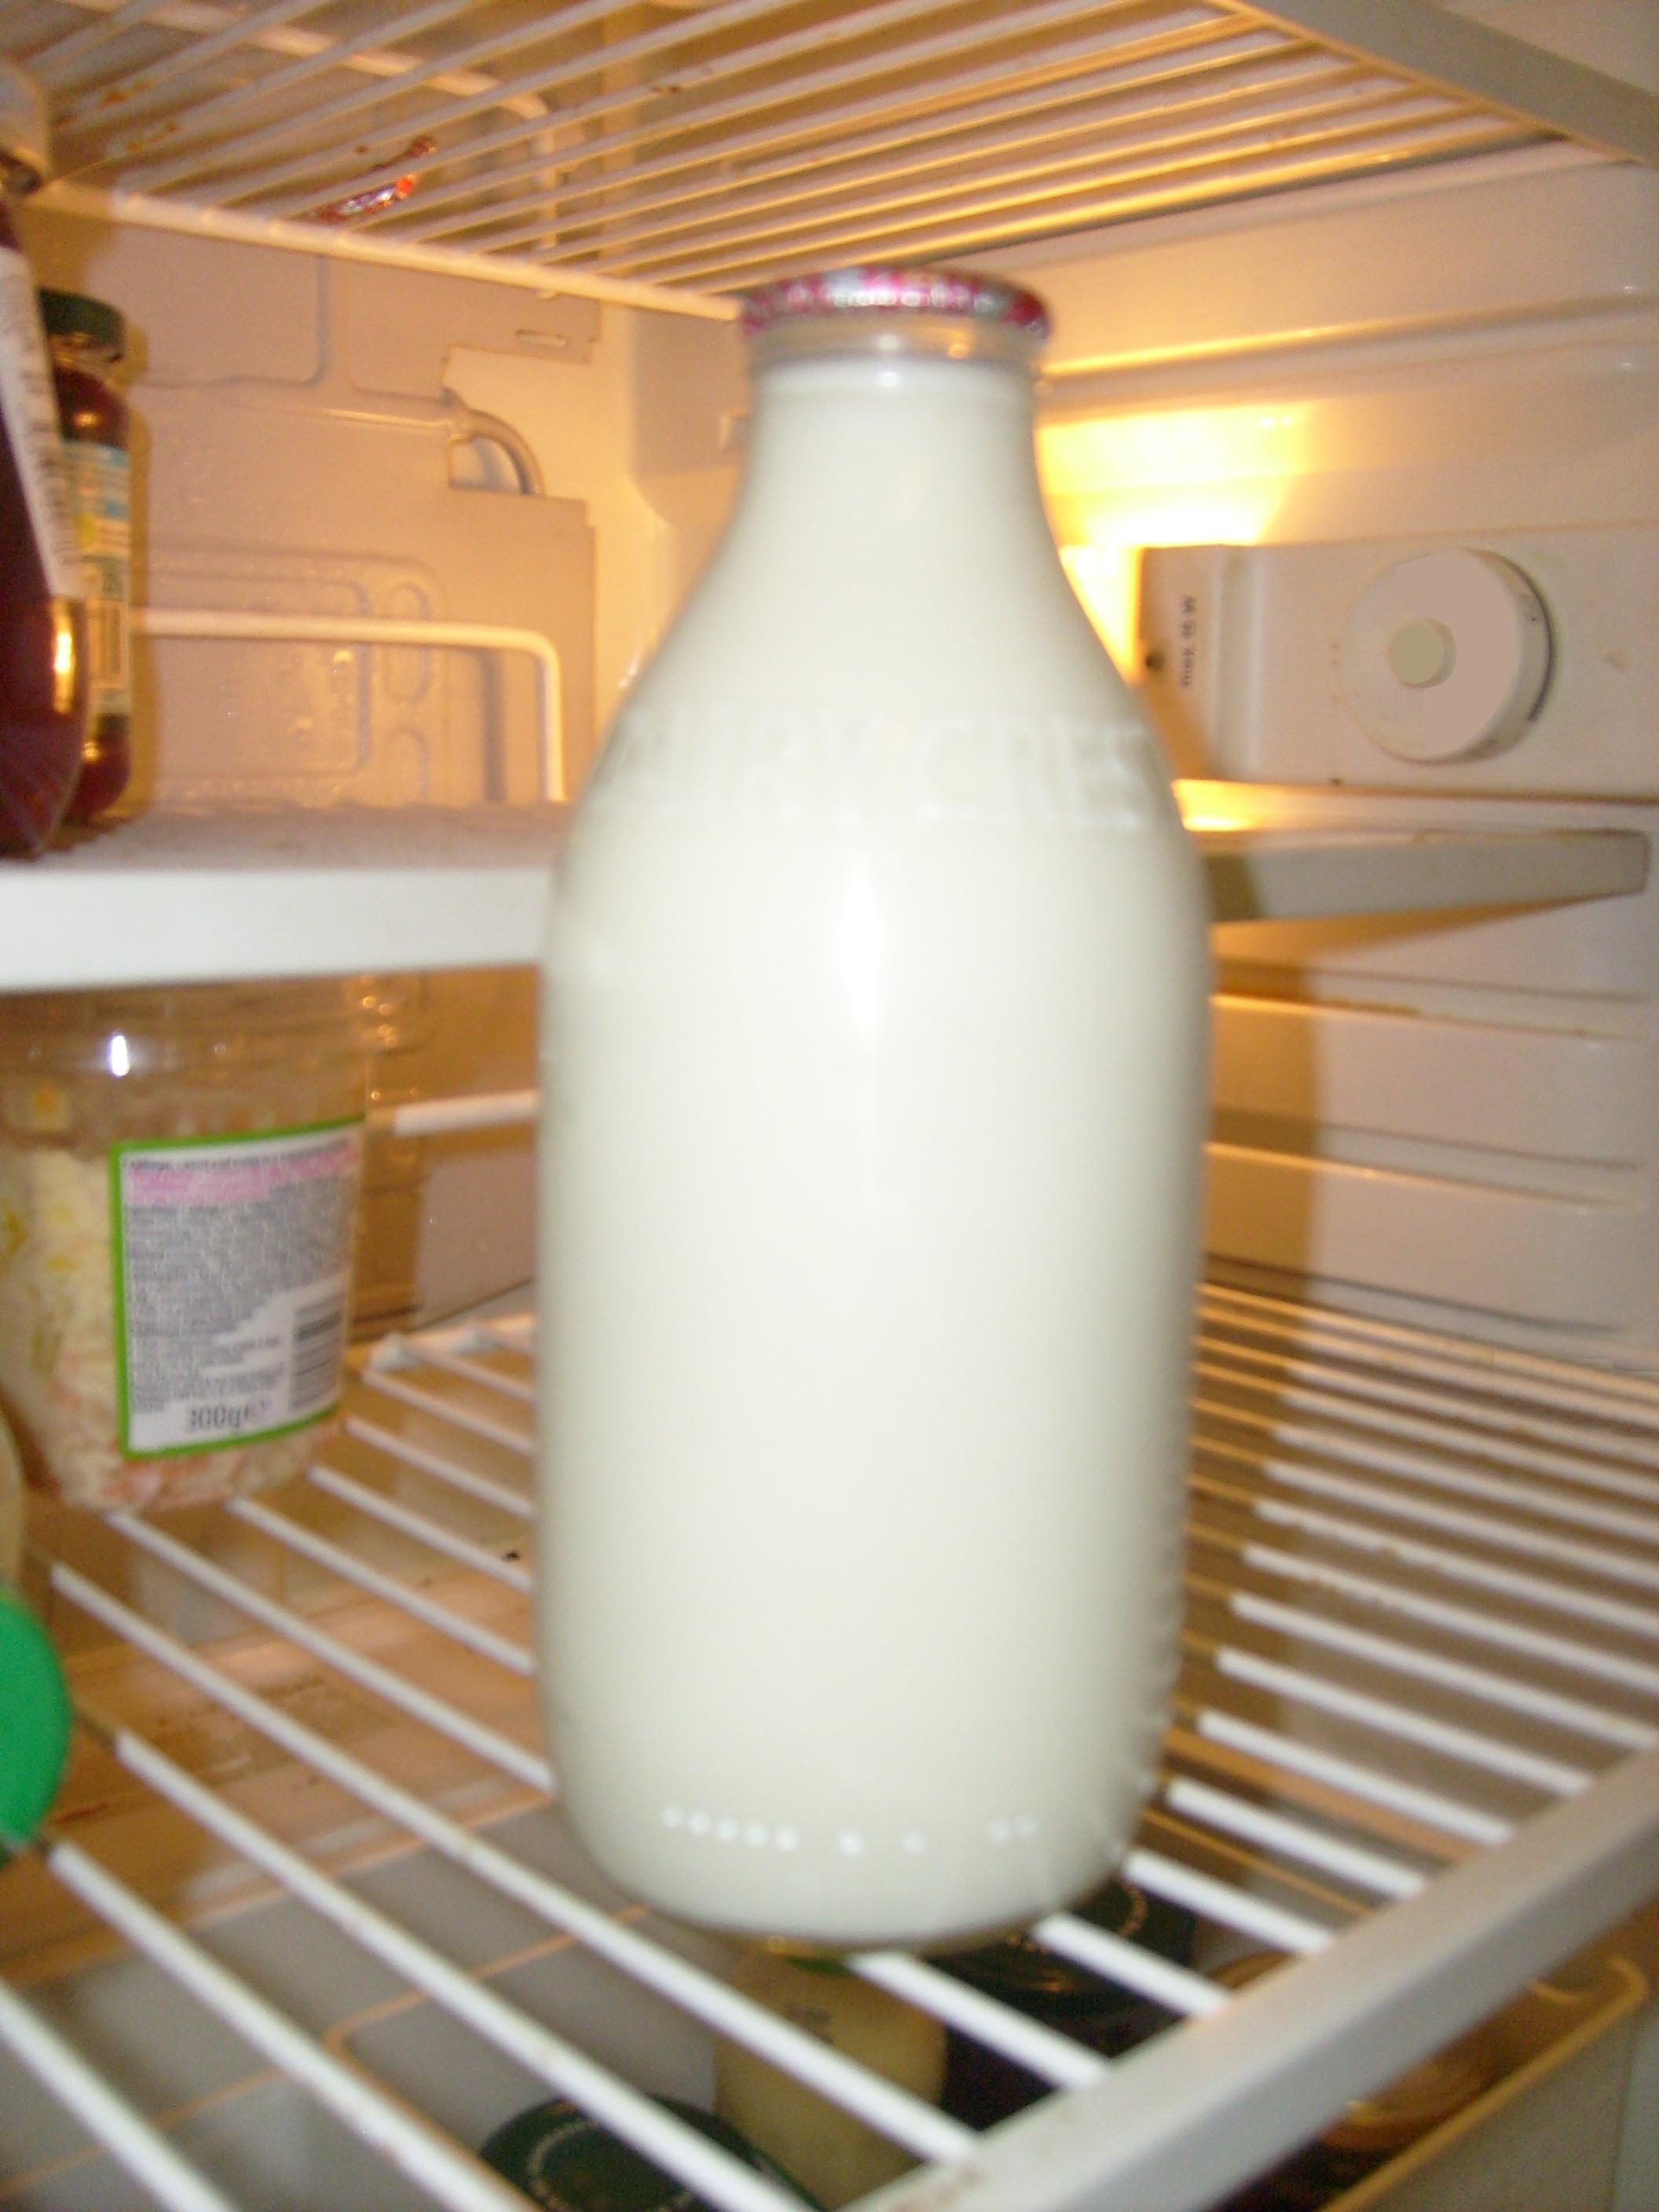glass of milk: (620, 277, 1108, 1886)
